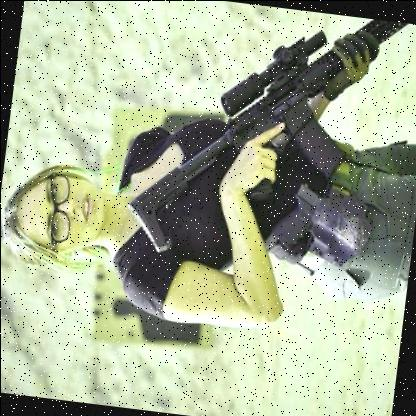rifle: (114, 0, 414, 278)
